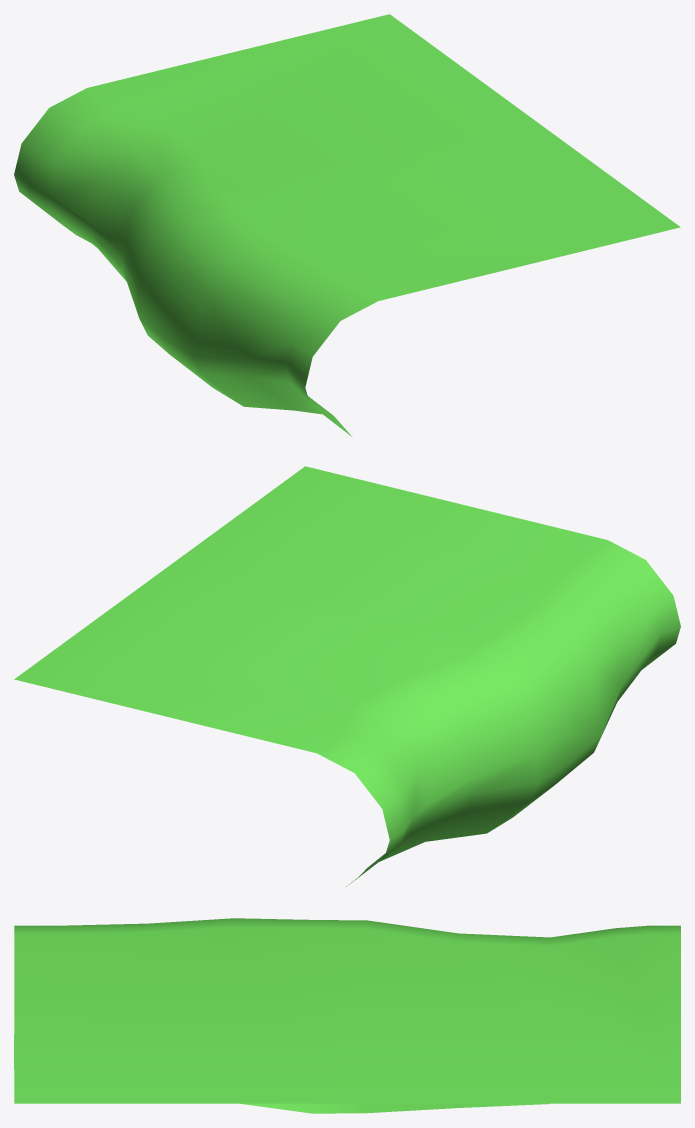
The model's file is Grass_Edge_B_Mesh.fbx.
3 views of the same model, one above another, from view 1: azimuth 30°, elevation 25°; view 2: azimuth 150°, elevation 25°; view 3: azimuth 270°, elevation 25° (orthographic). The views are drawn at different scales.
Parts seen in each view (by area): view 1: Grass_Edge_B; view 2: Grass_Edge_B; view 3: Grass_Edge_B.
Boxes of the visible parts, x1,y1,x2,y2 form: Grass_Edge_B: [14, 14, 680, 437]; Grass_Edge_B: [14, 466, 680, 886]; Grass_Edge_B: [14, 918, 680, 1113].
Bounding box in the file's own units: 155 × 200 × 65.75.
